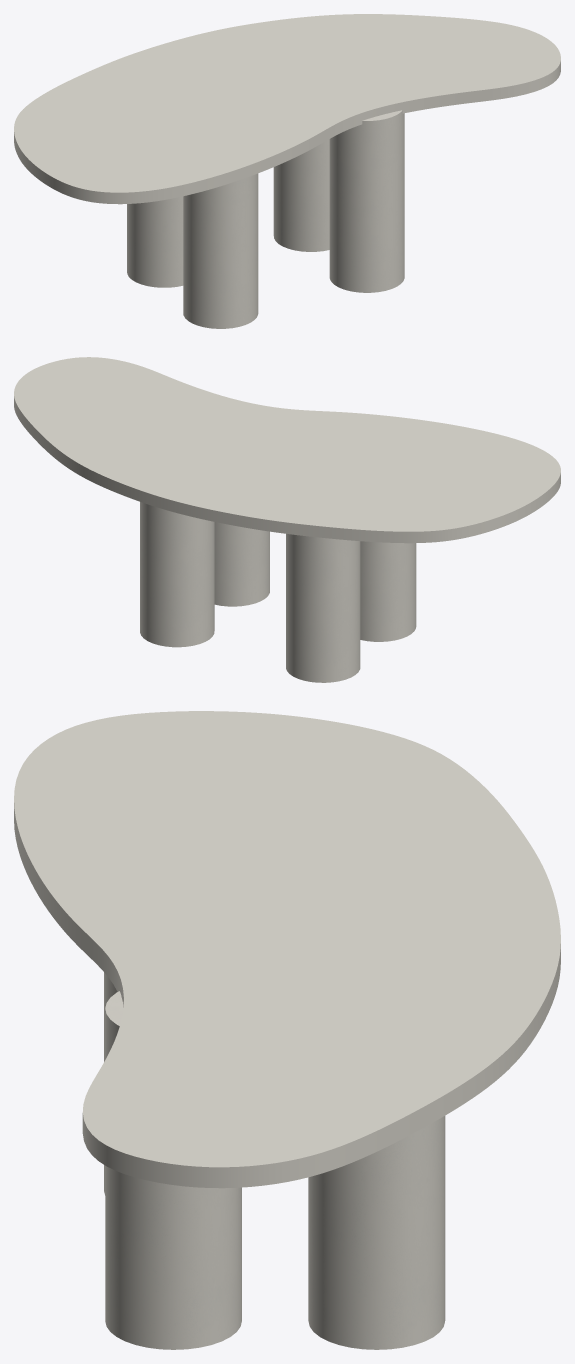
The model's file is pale_leaf1_standard_grove.glb.
3 renders of one model, top to bottom at view 1: azimuth 30°, elevation 25°; view 2: azimuth 150°, elevation 25°; view 3: azimuth 270°, elevation 25°, orthographic. The views are drawn at different scales.
Parts seen in each view (by area): view 1: standard_leaf1, grove; view 2: standard_leaf1, grove; view 3: standard_leaf1, grove.
Boxes of the visible parts, x1=… form: standard_leaf1: x1=14, y1=14, x2=560, y2=204; grove: x1=127, y1=110, x2=404, y2=328; standard_leaf1: x1=14, y1=357, x2=560, y2=543; grove: x1=140, y1=502, x2=416, y2=682; standard_leaf1: x1=14, y1=711, x2=560, y2=1188; grove: x1=104, y1=972, x2=445, y2=1349.
Size of the model in its own units: 7.5 by 2.51 by 3.8.
Materials: 1 (1 with a texture image).
